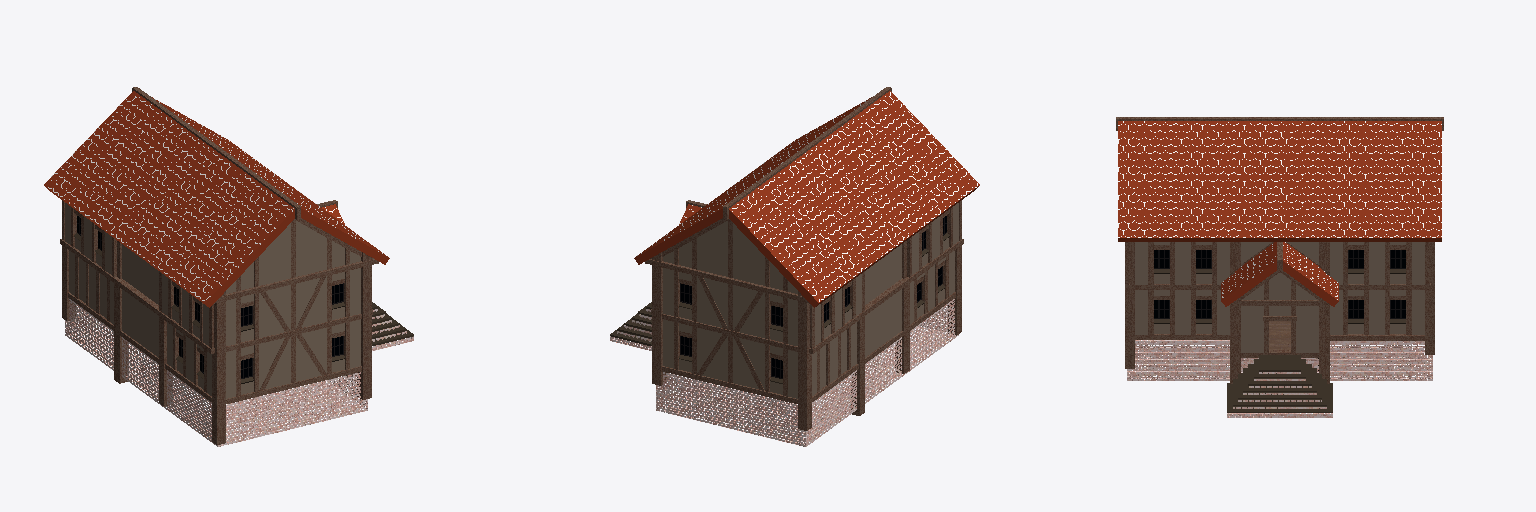
3 renders of one model, left to right at view 1: azimuth 30°, elevation 25°; view 2: azimuth 150°, elevation 25°; view 3: azimuth 270°, elevation 25°, orthographic.
Parts seen in each view (by area): view 1: Part385, Part221, Part407, Part386, Part448, Part197, Part308, Part509, Part362, Part339, Part520, Part203 (+9 smaller); view 2: Part385, Part221, Part407, Part386, Part204, Part269, Part387, Part307, Part309, Part339, Part552, Part203 (+9 smaller); view 3: Part407, Part221, Part408, Part393, Part251, Part242, Part284, Part418, Part520, Part358, Part552, Part193 (+17 smaller).
Boxes of the visible parts, x1=… form: Part385: x1=44, y1=91, x2=294, y2=307; Part221: x1=65, y1=299, x2=367, y2=446; Part407: x1=152, y1=97, x2=389, y2=264; Part386: x1=48, y1=96, x2=293, y2=300; Part448: x1=259, y1=328, x2=326, y2=389; Part197: x1=259, y1=276, x2=326, y2=337; Part308: x1=212, y1=291, x2=225, y2=444; Part509: x1=296, y1=221, x2=360, y2=276; Part362: x1=226, y1=223, x2=290, y2=293; Part339: x1=122, y1=289, x2=158, y2=357; Part520: x1=357, y1=252, x2=371, y2=399; Part203: x1=122, y1=244, x2=158, y2=304; Part385: x1=722, y1=91, x2=979, y2=307; Part221: x1=656, y1=299, x2=958, y2=446; Part407: x1=634, y1=97, x2=871, y2=264; Part386: x1=732, y1=92, x2=977, y2=301; Part204: x1=697, y1=328, x2=764, y2=389; Part269: x1=697, y1=276, x2=764, y2=337; Part387: x1=663, y1=221, x2=727, y2=276; Part307: x1=733, y1=223, x2=797, y2=293; Part309: x1=798, y1=291, x2=811, y2=430; Part339: x1=865, y1=289, x2=901, y2=357; Part552: x1=652, y1=252, x2=666, y2=385; Part203: x1=865, y1=244, x2=901, y2=304; Part407: x1=1118, y1=121, x2=1441, y2=241; Part221: x1=1127, y1=340, x2=1432, y2=380; Part408: x1=1118, y1=121, x2=1441, y2=237; Part393: x1=1221, y1=242, x2=1276, y2=306; Part251: x1=1283, y1=242, x2=1338, y2=306; Part242: x1=1116, y1=117, x2=1443, y2=130; Part284: x1=1241, y1=306, x2=1263, y2=352; Part418: x1=1296, y1=306, x2=1318, y2=352; Part520: x1=1125, y1=242, x2=1134, y2=368; Part358: x1=1129, y1=283, x2=1430, y2=289; Part552: x1=1425, y1=242, x2=1434, y2=354; Part193: x1=1230, y1=301, x2=1240, y2=383.
Size of the model in its own units: 57.81 by 49.7 by 62.4.
Materials: 15 (5 with a texture image).